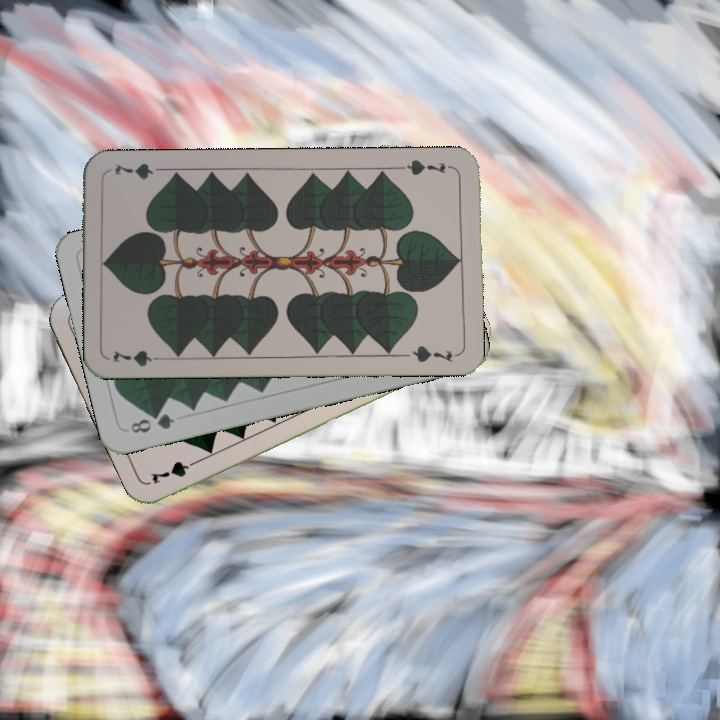G7: (146, 454, 204, 487), (108, 346, 167, 369), (397, 155, 456, 177)
G8: (126, 409, 177, 436)
